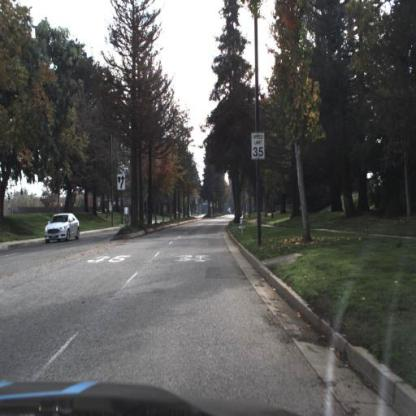car: (45, 214, 81, 245)
